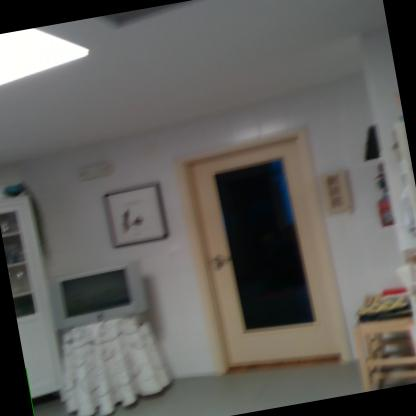closed: (166, 118, 352, 381)
